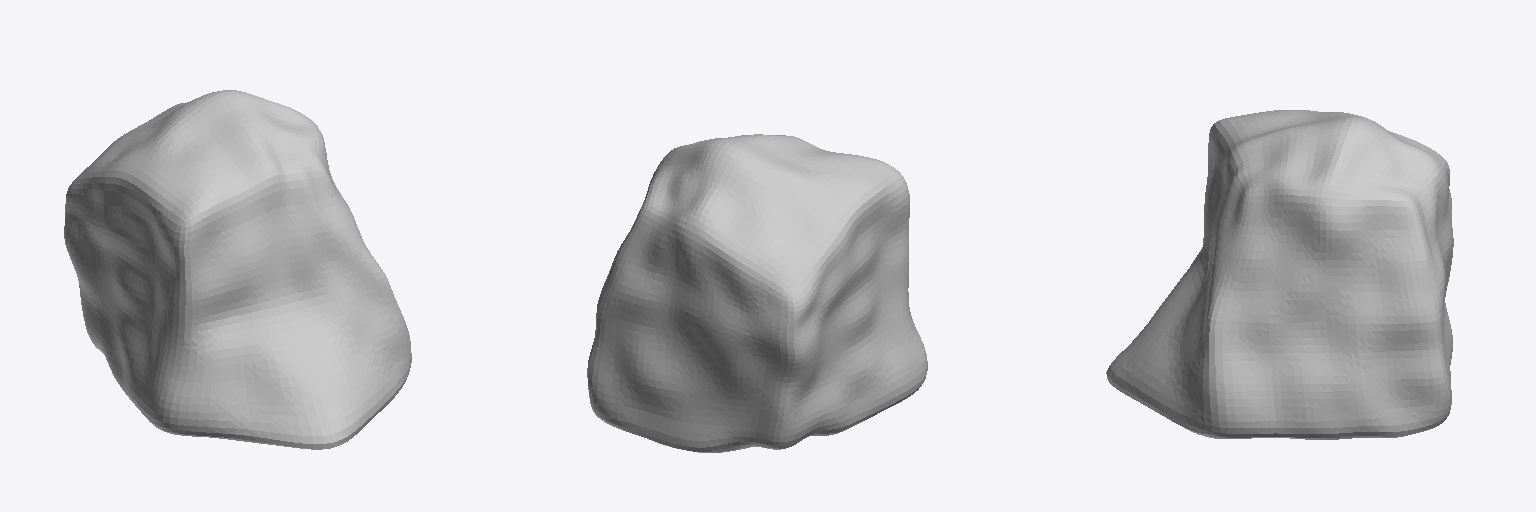
Rendered from rock_grey.obj.
The picture shows the model from 3 angles: view 1: azimuth 30°, elevation 25°; view 2: azimuth 150°, elevation 25°; view 3: azimuth 270°, elevation 25°; orthographic projection.
Parts seen in each view (by area): view 1: Cube; view 2: Cube; view 3: Cube.
Boxes of the visible parts, x1=… form: Cube: x1=64, y1=90, x2=411, y2=449; Cube: x1=587, y1=134, x2=927, y2=452; Cube: x1=1106, y1=110, x2=1453, y2=439.
Size of the model in its own units: 252 by 258 by 298.